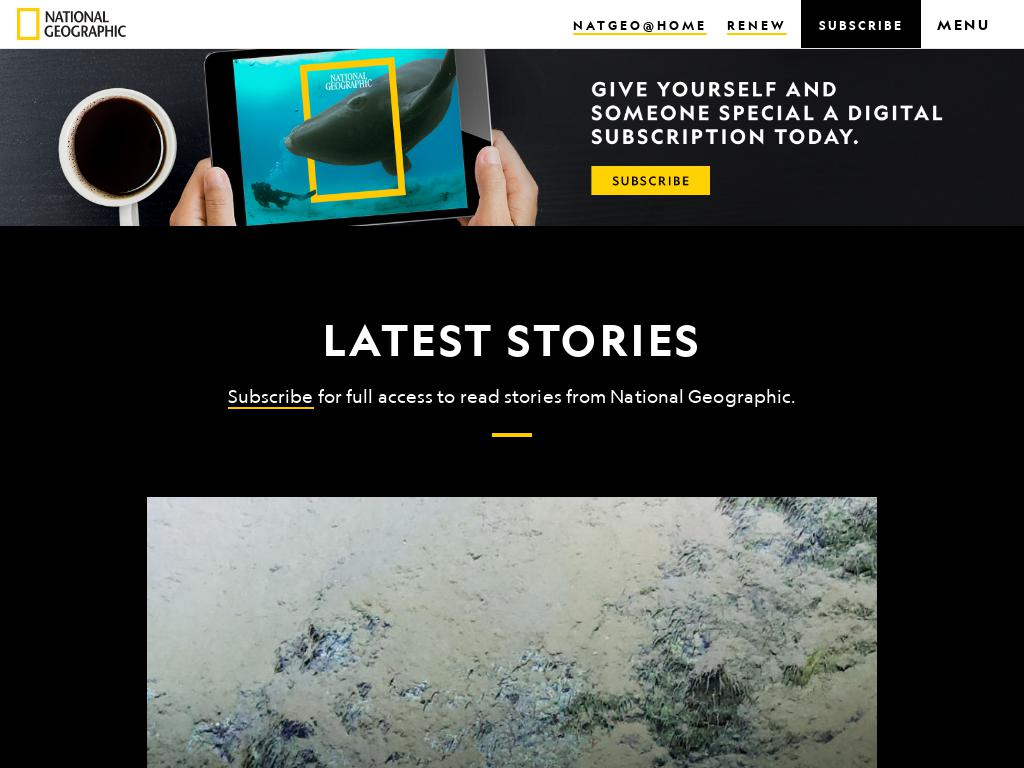button: (0, 49, 1024, 226), (17, 0, 126, 48), (801, 8, 921, 42), (573, 17, 707, 35), (227, 384, 314, 409), (937, 14, 1007, 35), (727, 17, 787, 35), (535, 0, 553, 48), (503, 15, 519, 32)
heading: (147, 315, 877, 365)
image: (136, 489, 867, 768), (147, 496, 877, 768), (0, 49, 1024, 226), (801, 0, 921, 48), (17, 8, 127, 40), (535, 16, 553, 32), (503, 15, 519, 32), (492, 432, 532, 437), (997, 19, 1007, 29)
text: (313, 384, 796, 407), (814, 11, 908, 39), (937, 14, 990, 35)
